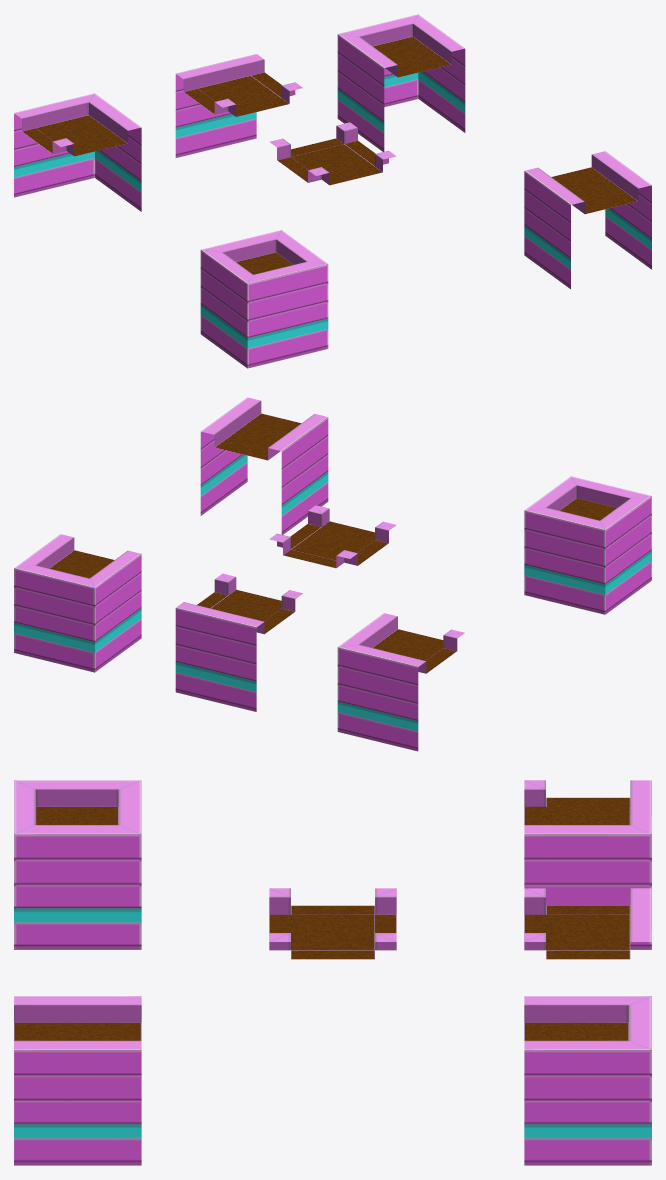
Rendered from planters.dae.
3 renders of one model, top to bottom at view 1: azimuth 30°, elevation 25°; view 2: azimuth 150°, elevation 25°; view 3: azimuth 270°, elevation 25°, orthographic. The views are drawn at different scales.
Visible parts, largest first — view 1: planter-col, planterCap-col, planterCorner-col, planterMid-col, planterTJoint, planterJoint; view 2: planter-col, planterCap-col, planterCorner-col, planterMid-col, planterTJoint, planterJoint; view 3: planter-col, planterCap-col, planterMid-col, planterCorner-col, planterJoint, planterTJoint.
Part boxes in pixels (x1=…): planter-col: x1=200, y1=230, x2=328, y2=368; planterCap-col: x1=337, y1=14, x2=465, y2=151; planterCorner-col: x1=14, y1=93, x2=141, y2=211; planterMid-col: x1=524, y1=151, x2=651, y2=289; planterTJoint: x1=175, y1=54, x2=302, y2=157; planterJoint: x1=270, y1=122, x2=396, y2=185; planter-col: x1=524, y1=476, x2=651, y2=614; planterCap-col: x1=14, y1=534, x2=141, y2=672; planterCorner-col: x1=337, y1=613, x2=464, y2=751; planterMid-col: x1=200, y1=397, x2=328, y2=534; planterTJoint: x1=175, y1=573, x2=302, y2=711; planterJoint: x1=269, y1=505, x2=395, y2=568; planter-col: x1=14, y1=780, x2=141, y2=949; planterCap-col: x1=524, y1=996, x2=651, y2=1165; planterMid-col: x1=14, y1=996, x2=141, y2=1165; planterCorner-col: x1=524, y1=780, x2=651, y2=949; planterJoint: x1=269, y1=888, x2=396, y2=959; planterTJoint: x1=524, y1=888, x2=651, y2=959.
Bounding box in the file's own units: 10 × 10 × 2.
Materials: 1 (1 with a texture image).
